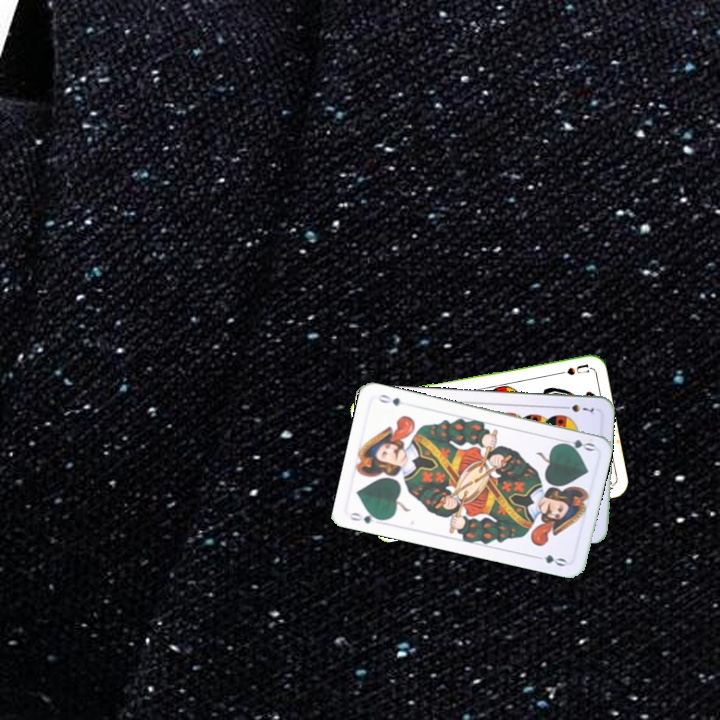GO: (556, 435, 597, 454), (346, 508, 387, 526)
S7: (558, 400, 596, 415)
SU: (550, 360, 591, 378)
